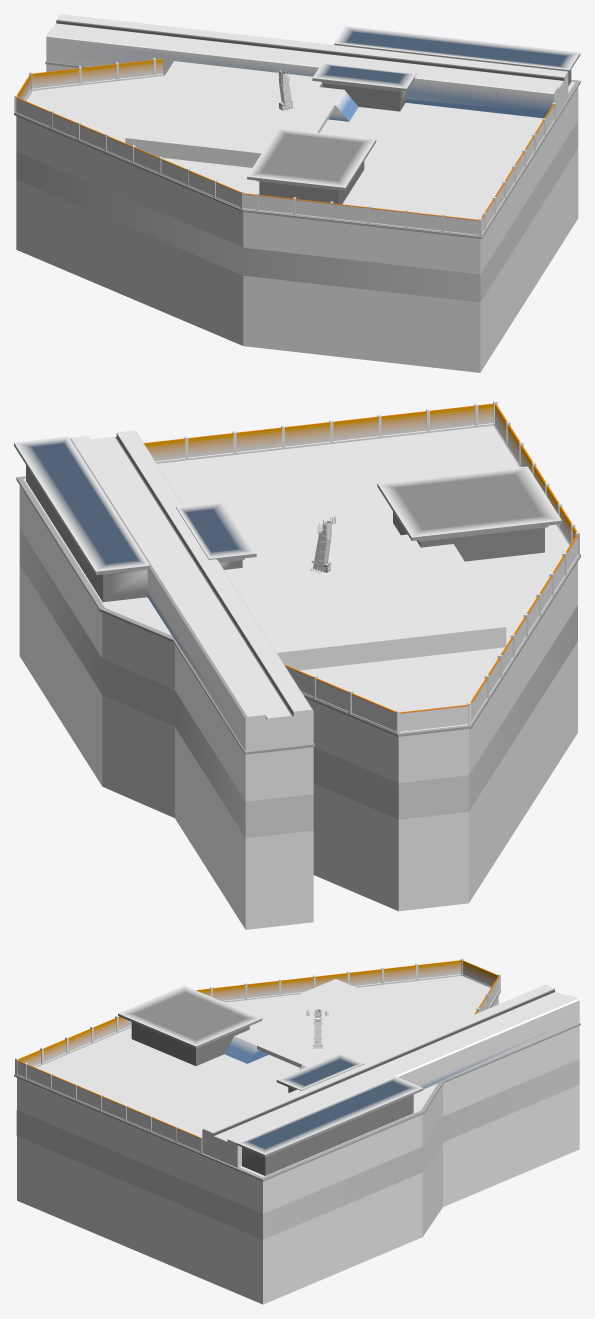
Rendered from cell_144_85.fbx.
The picture shows the model from 3 angles, top to bottom: view 1: azimuth 30°, elevation 25°; view 2: azimuth 150°, elevation 25°; view 3: azimuth 270°, elevation 25°; orthographic projection. The views are drawn at different scales.
Parts seen in each view (by area): view 1: SM_I_RoadFacility_Ground_L_15B.mo, SM_I_RoadFacility_Ground_L_15B_Decal.mo, SM_H_Industrial_ISS_LaunchLauncher_01M.mo.003; view 2: SM_I_RoadFacility_Ground_L_15B.mo, SM_I_RoadFacility_Ground_L_15B_Decal.mo, SM_H_Industrial_ISS_LaunchLauncher_01M.mo.003; view 3: SM_I_RoadFacility_Ground_L_15B.mo, SM_I_RoadFacility_Ground_L_15B_Decal.mo, SM_H_Industrial_ISS_LaunchLauncher_01M.mo.003.
Part boxes in pixels (box(x1,y1,x2,y2)): SM_I_RoadFacility_Ground_L_15B.mo: box(14, 14, 580, 372); SM_I_RoadFacility_Ground_L_15B_Decal.mo: box(16, 120, 578, 302); SM_H_Industrial_ISS_LaunchLauncher_01M.mo.003: box(272, 67, 303, 113); SM_I_RoadFacility_Ground_L_15B.mo: box(14, 401, 580, 929); SM_I_RoadFacility_Ground_L_15B_Decal.mo: box(19, 528, 577, 838); SM_H_Industrial_ISS_LaunchLauncher_01M.mo.003: box(298, 516, 338, 577); SM_I_RoadFacility_Ground_L_15B.mo: box(14, 958, 580, 1304); SM_I_RoadFacility_Ground_L_15B_Decal.mo: box(16, 1059, 579, 1239); SM_H_Industrial_ISS_LaunchLauncher_01M.mo.003: box(306, 1009, 330, 1051).
Bounding box in the file's own units: 143 × 56.59 × 166.
